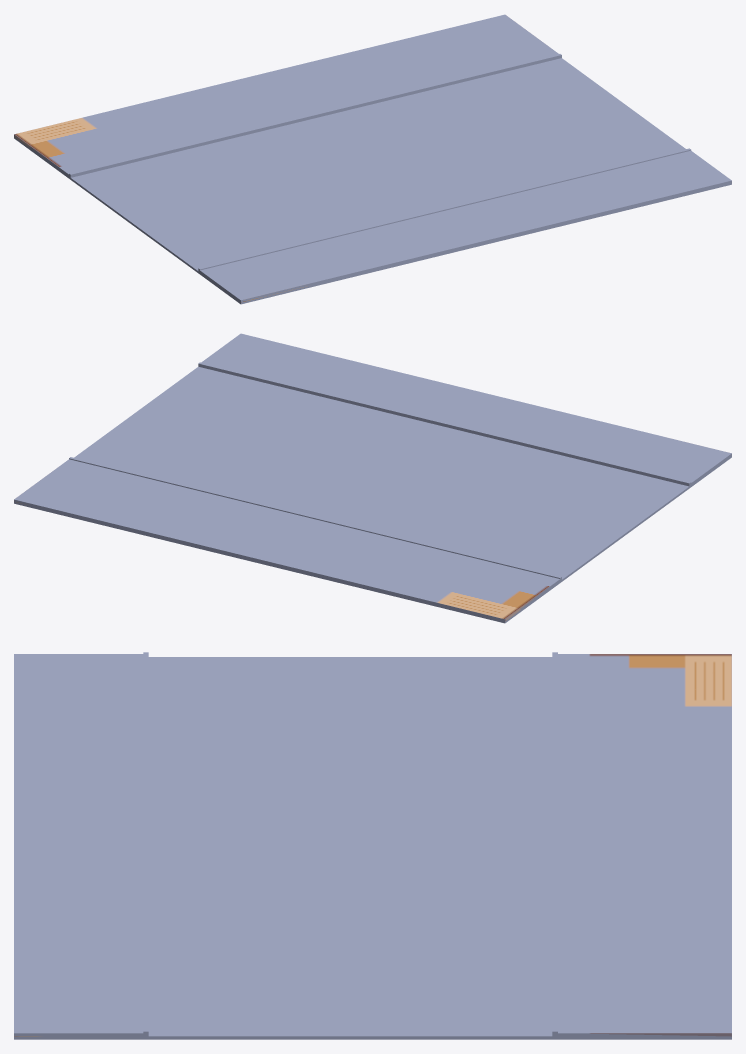
The model's file is ground_03.FBX.
The picture shows the model from 3 angles, top to bottom: view 1: azimuth 30°, elevation 25°; view 2: azimuth 150°, elevation 25°; view 3: azimuth 270°, elevation 25°; orthographic projection. The views are drawn at different scales.
Parts seen in each view (by area): view 1: ground_03; view 2: ground_03; view 3: ground_03.
Boxes of the visible parts, x1=… form: ground_03: x1=14, y1=14, x2=731, y2=304; ground_03: x1=14, y1=333, x2=731, y2=623; ground_03: x1=14, y1=652, x2=731, y2=1039.
Size of the model in its own units: 2000 by 20 by 1600.
